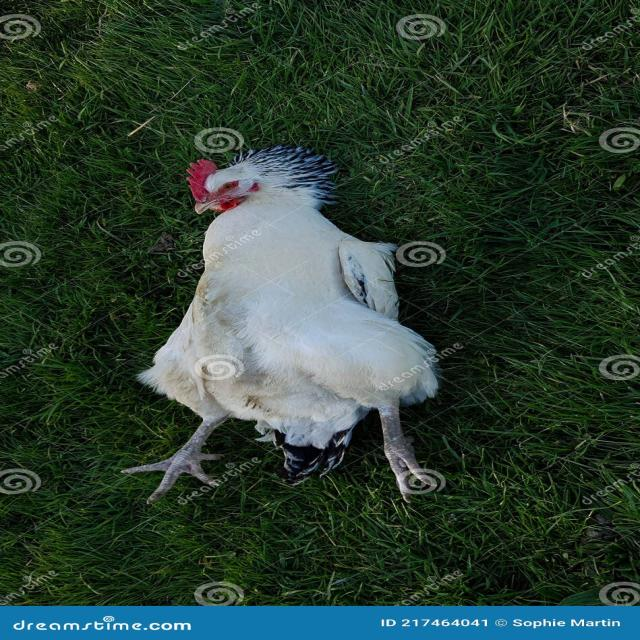Unhealthy: (138, 127, 448, 514)
